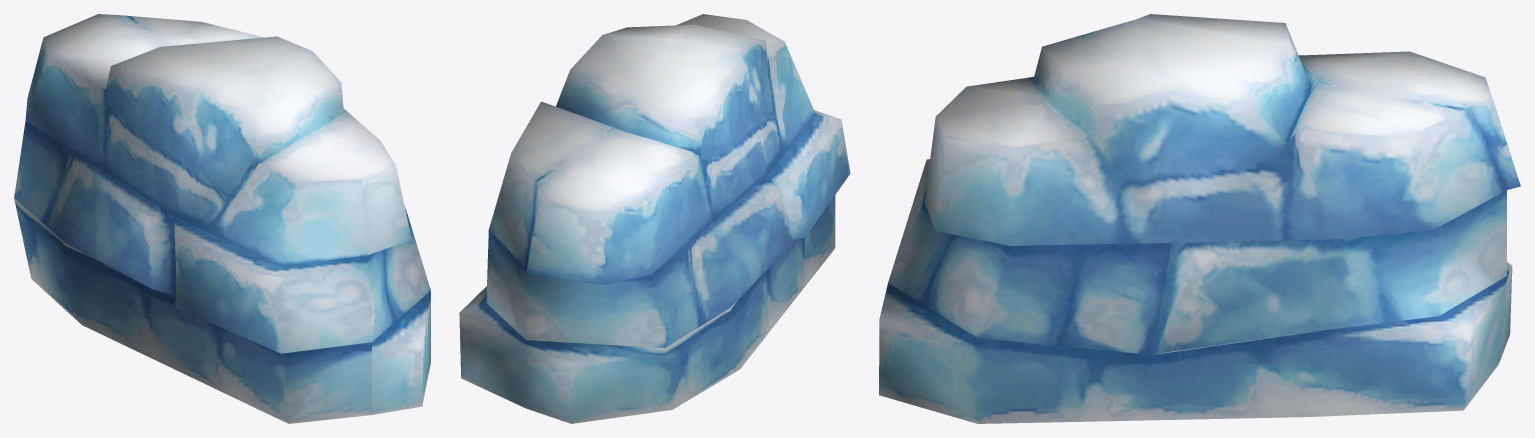
The model's file is SM_stoneD_02.fbx.
The picture shows the model from 3 angles, left to right: view 1: azimuth 30°, elevation 25°; view 2: azimuth 150°, elevation 25°; view 3: azimuth 270°, elevation 25°; orthographic projection. The views are drawn at different scales.
Visible parts, largest first — view 1: SM_stoneD_02; view 2: SM_stoneD_02; view 3: SM_stoneD_02.
Boxes of the visible parts, x1,y1,x2,y2 form: SM_stoneD_02: (14, 14, 430, 423); SM_stoneD_02: (459, 14, 850, 423); SM_stoneD_02: (879, 14, 1520, 423).
Bounding box in the file's own units: 2.59 × 2.8 × 5.26.
